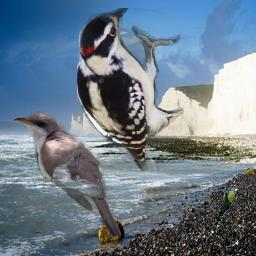Cuckoo: (11, 109, 121, 241), (213, 185, 238, 227)
Woodpecker: (77, 8, 183, 171)
